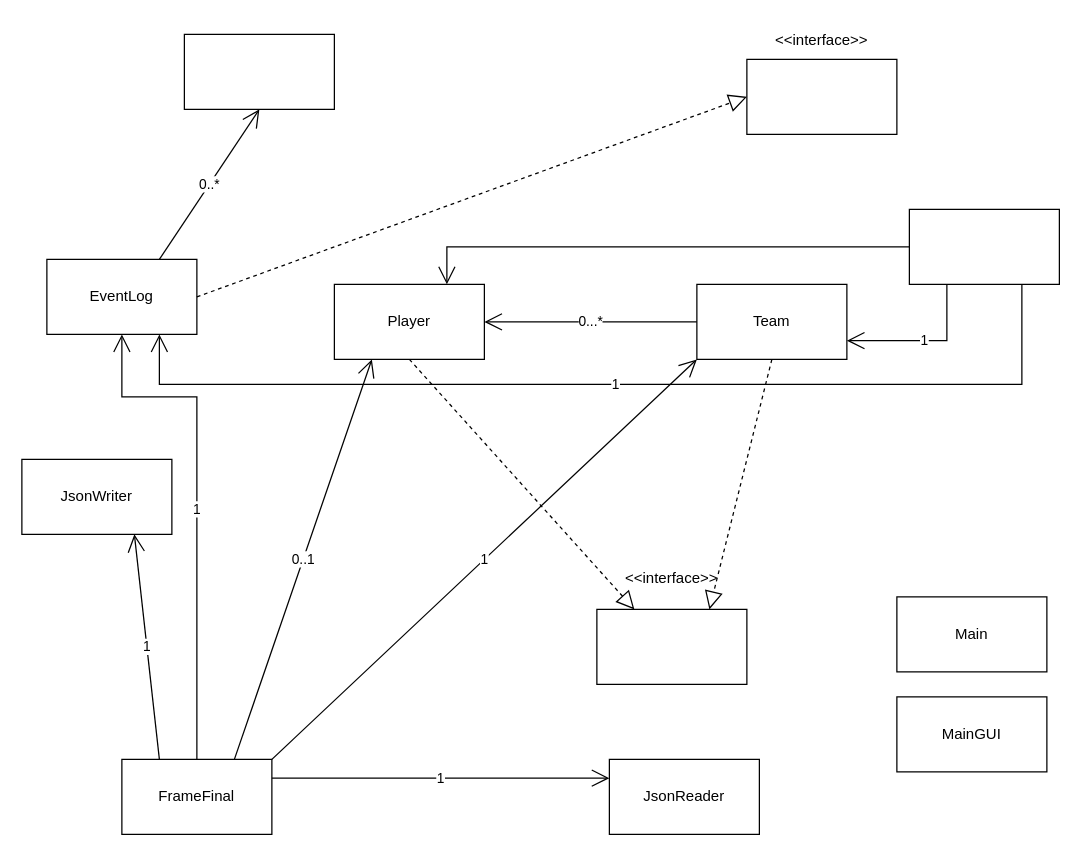
Image size: 1081x856. Some labels were removed from this diagram. Here are the shapes that lost their labels. From the top down, the centre of each, then its label:
At pixel 258 71: "Event".
At pixel 821 96: "Iterable<Event>".
At pixel 983 246: "TeamTracker".
At pixel 671 646: "Writable".
